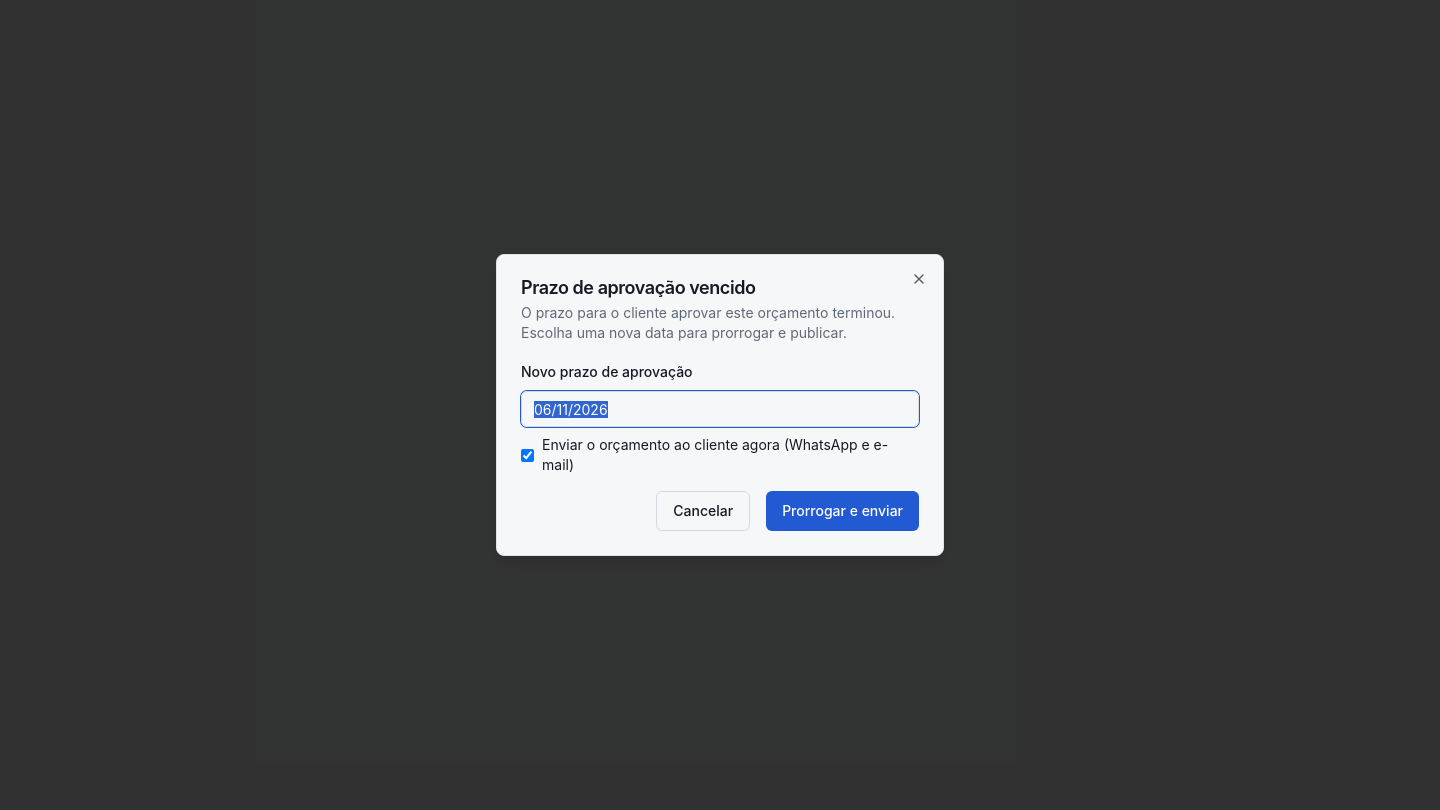
Test: ProrrogarPrazoDialog › mostra o erro da prorrogação e não fecha
Replace the text in the field labelled "Novo prazo de aprovação" with "2099-03-15": (720,409) [521,391,919,427]
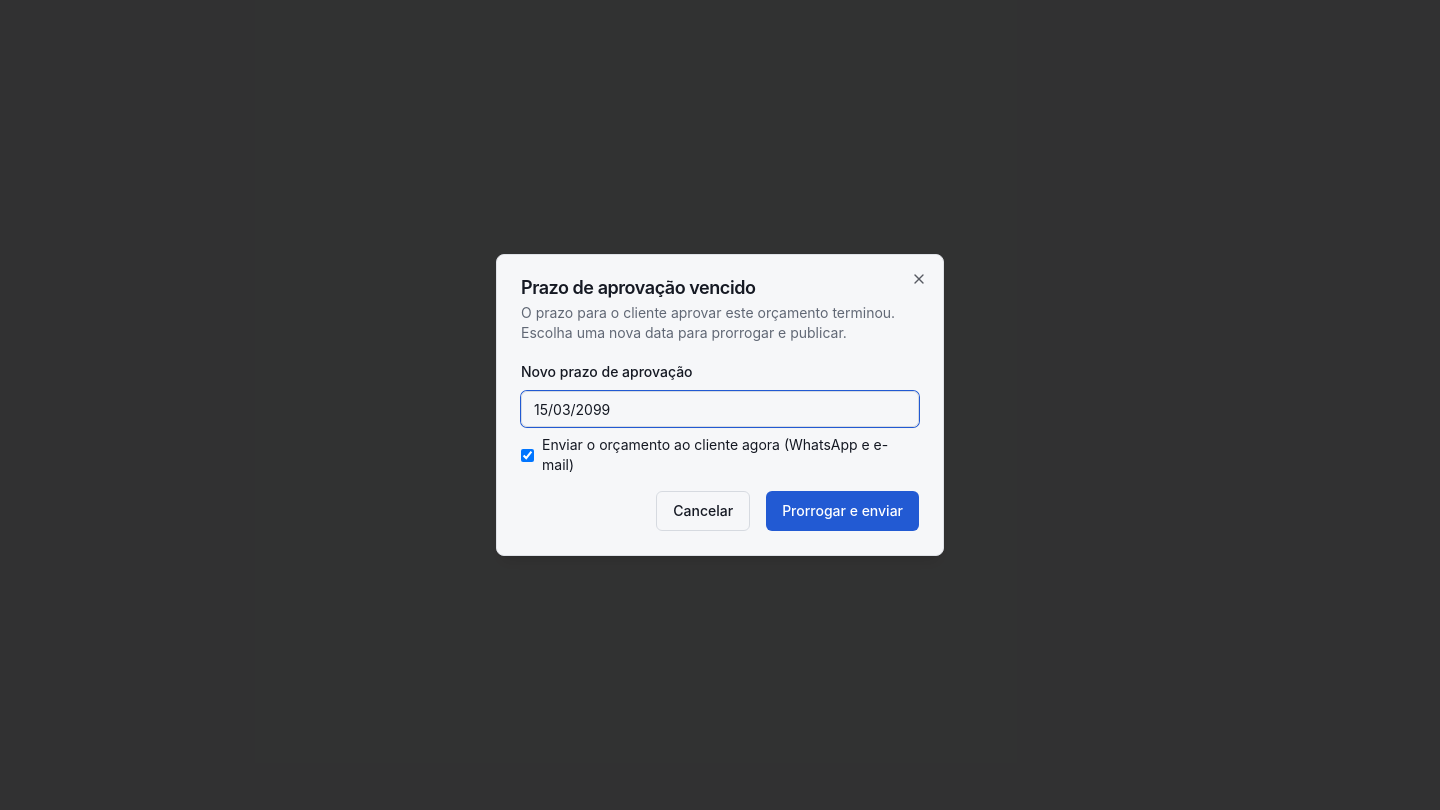
Click the checkbox labelled "Enviar o orçamento ao cliente agora (WhatsApp e e-mail)": (528,455) [521,448,534,462]
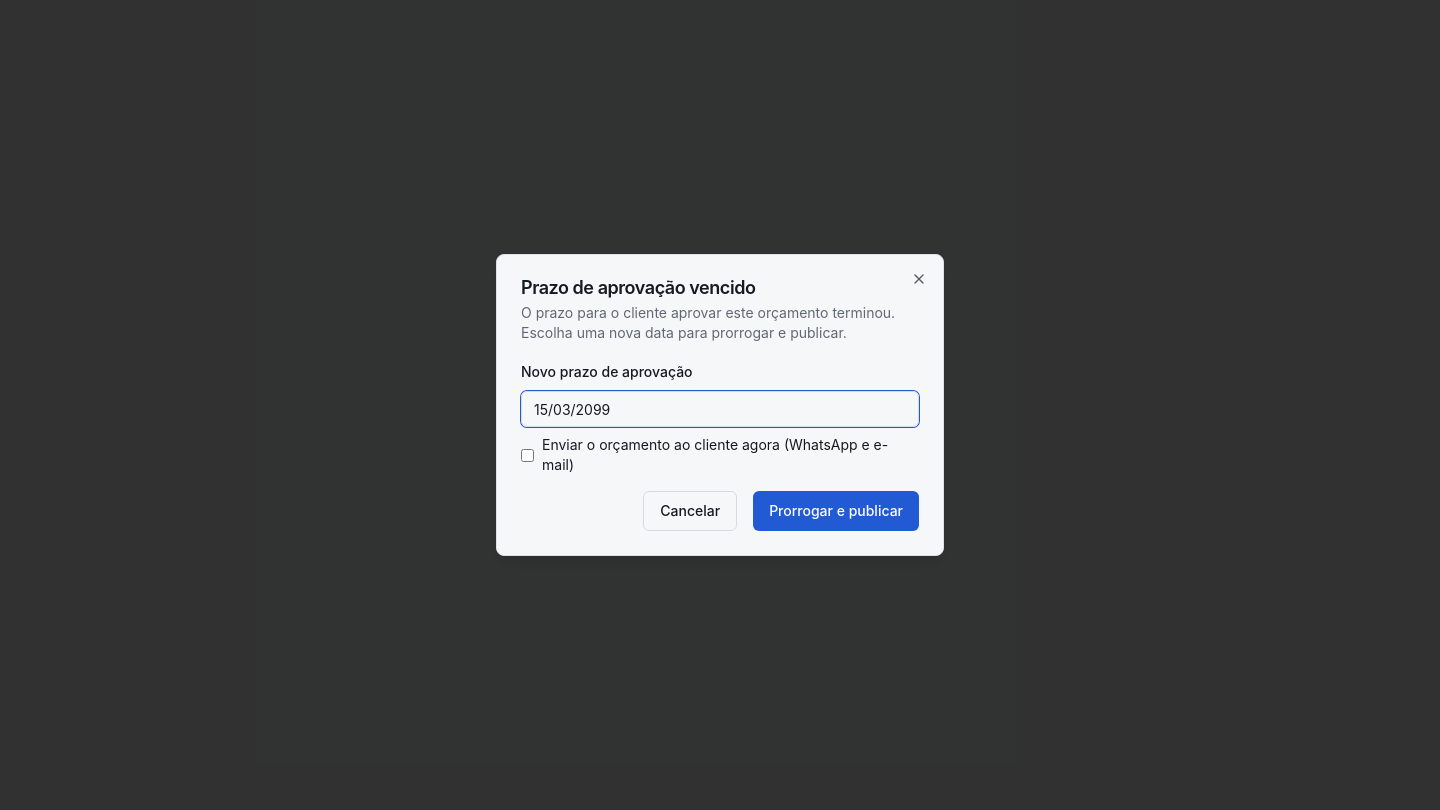
Click the button "Prorrogar e publicar": (836,511) [753,491,919,531]
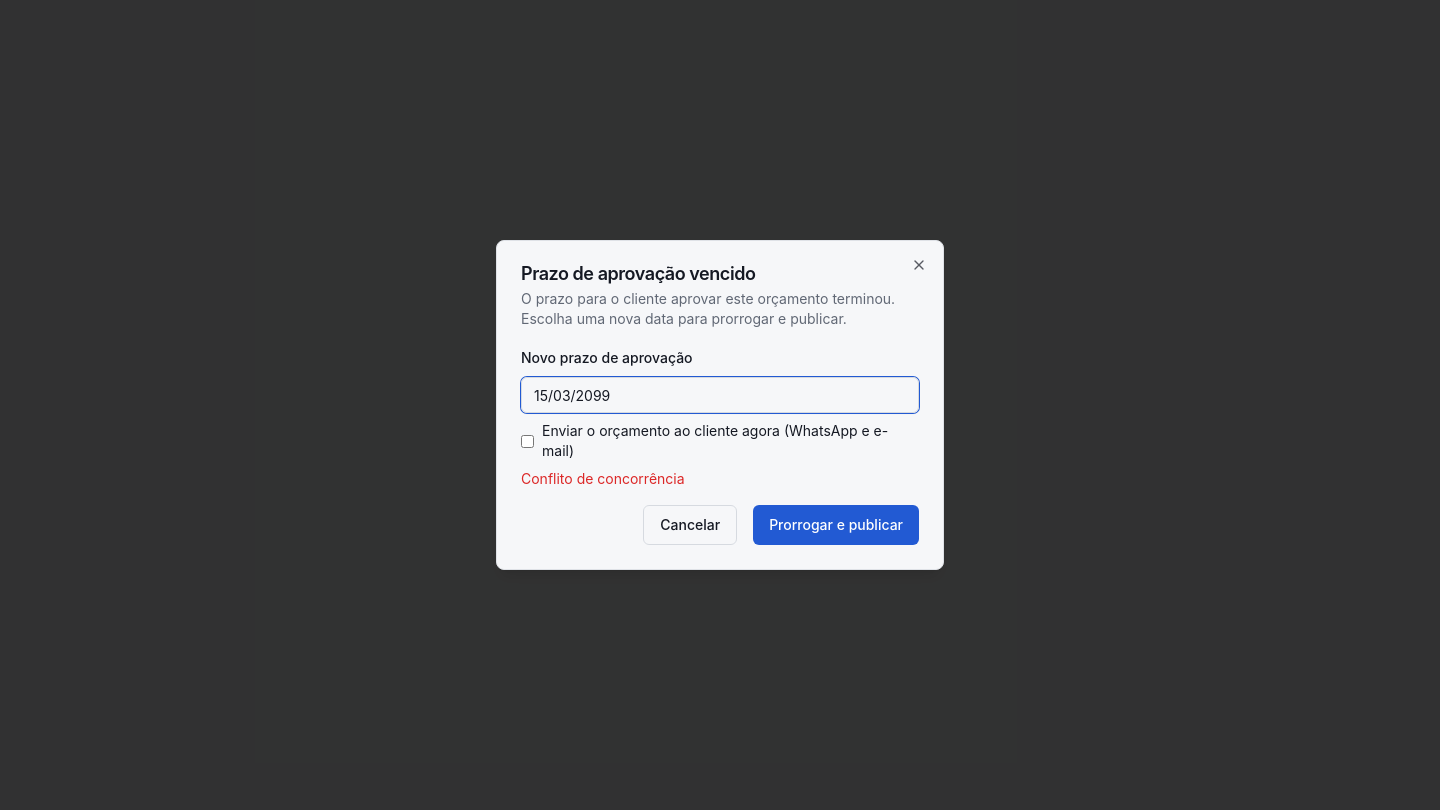
Check: the message reads "Conflito de concorrência", box [521,470,685,487]
